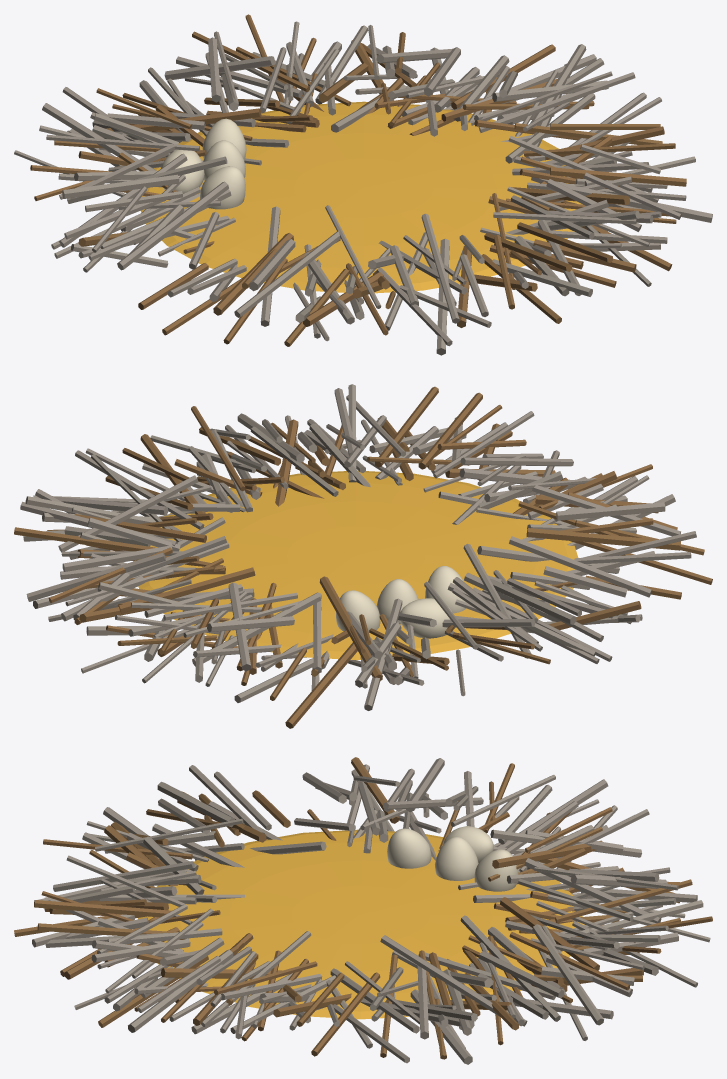
File: caraxoid_nest.fbx
3 renders of one model, top to bottom at view 1: azimuth 30°, elevation 25°; view 2: azimuth 150°, elevation 25°; view 3: azimuth 270°, elevation 25°, orthographic.
Visible parts, largest first — view 1: Mesh_CaraxoidNest_Rim, Mesh_CaraxoidNest_Lining, Mesh_CaraxoidNest_Eggs; view 2: Mesh_CaraxoidNest_Rim, Mesh_CaraxoidNest_Lining, Mesh_CaraxoidNest_Eggs; view 3: Mesh_CaraxoidNest_Rim, Mesh_CaraxoidNest_Lining, Mesh_CaraxoidNest_Eggs.
Part boxes in pixels (x1,y1,x2,y2): Mesh_CaraxoidNest_Rim: (14, 14, 712, 355); Mesh_CaraxoidNest_Lining: (141, 101, 582, 293); Mesh_CaraxoidNest_Eggs: (161, 118, 246, 209); Mesh_CaraxoidNest_Rim: (14, 384, 712, 728); Mesh_CaraxoidNest_Lining: (133, 470, 578, 660); Mesh_CaraxoidNest_Eggs: (336, 566, 467, 638); Mesh_CaraxoidNest_Rim: (14, 757, 712, 1064); Mesh_CaraxoidNest_Lining: (137, 829, 584, 1019); Mesh_CaraxoidNest_Eggs: (387, 826, 518, 891).
Bounding box in the file's own units: 1690 × 239 × 1743.
